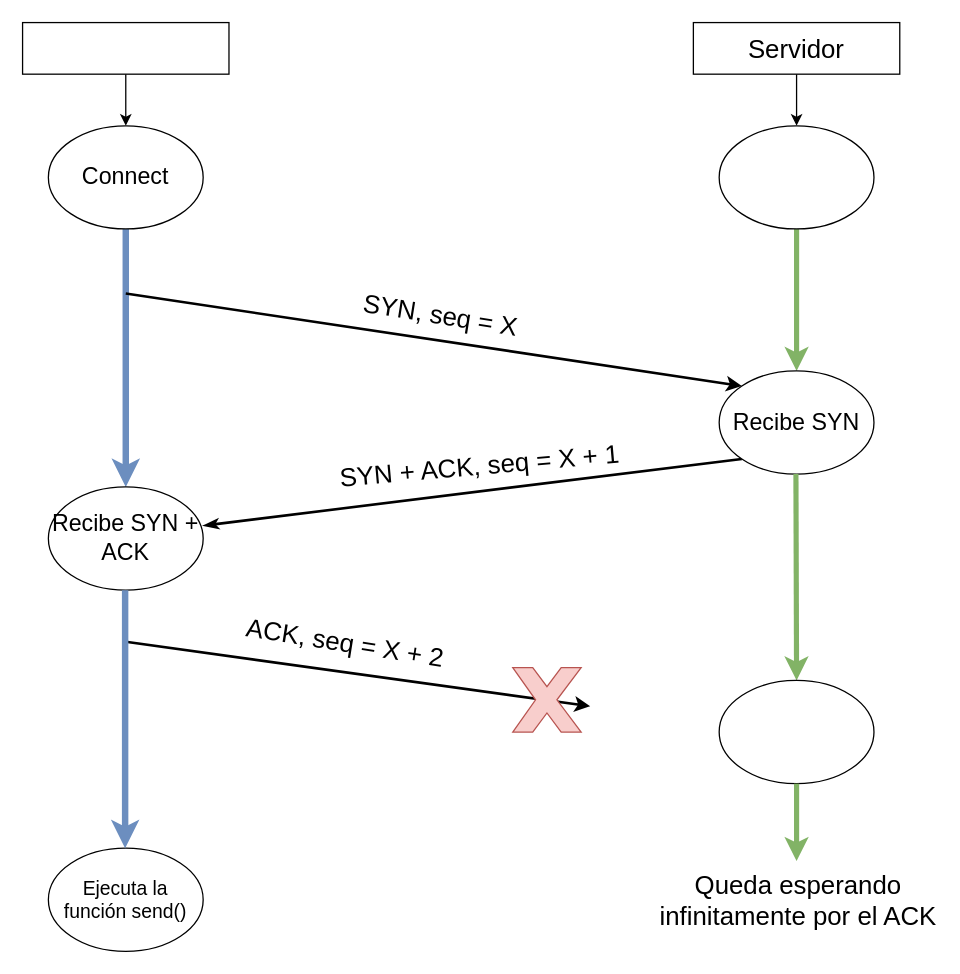
Image size: 960x974. Some labels were removed from this diagram. The box of each missing label's shape, as (x1, y1, x2, y2) in pixels:
Accept: (718, 124, 874, 229)
Cliente: (21, 21, 229, 74)
Recibe ACK: (718, 679, 874, 784)
